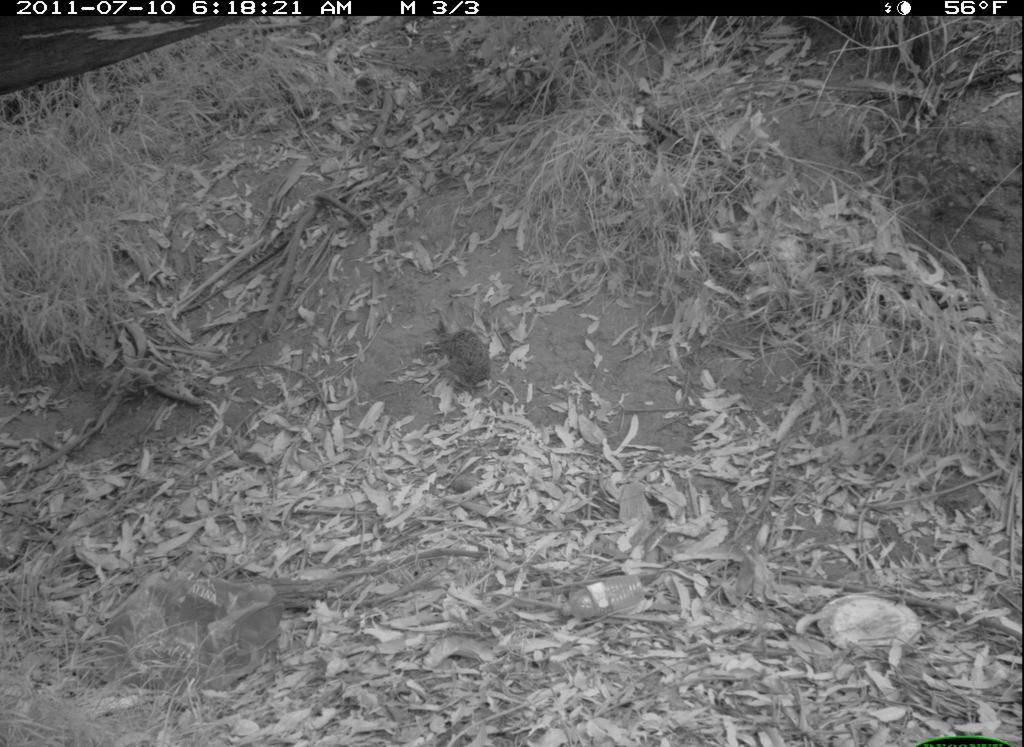rabbit: (438, 300, 501, 386)
